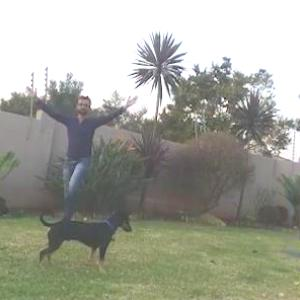takeoff: (44, 91, 154, 219)
